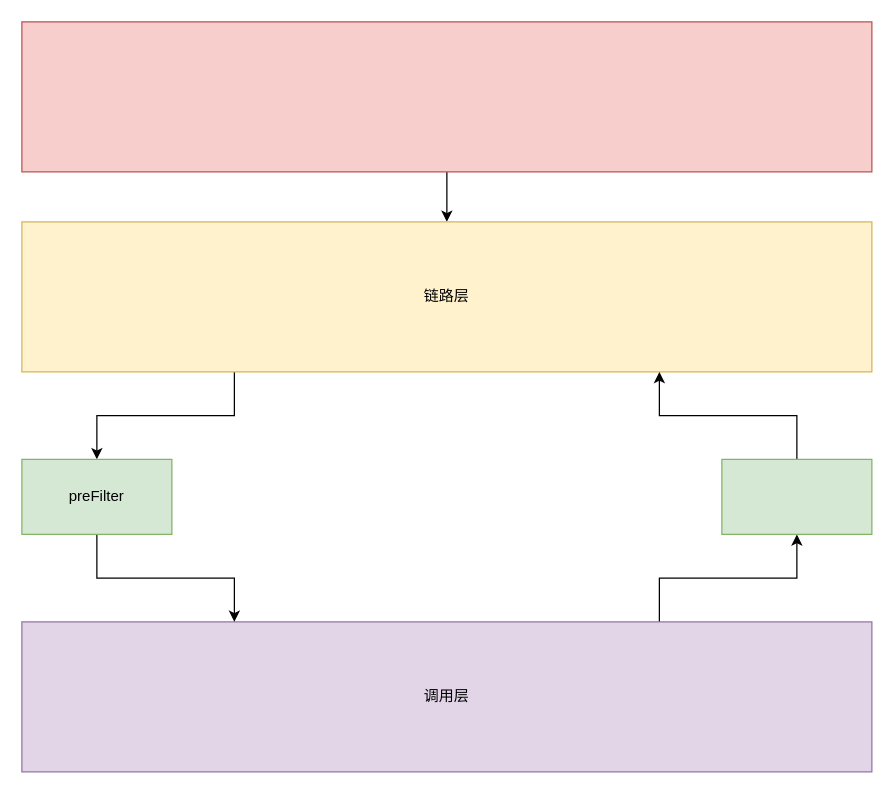
The diagram is 894 pixels wide and 794 high, and some of its shapes have lost their labels. Each missing label, with the box of its shape:
postFilter: (721, 458, 872, 534)
协议解析层: (21, 21, 872, 172)
